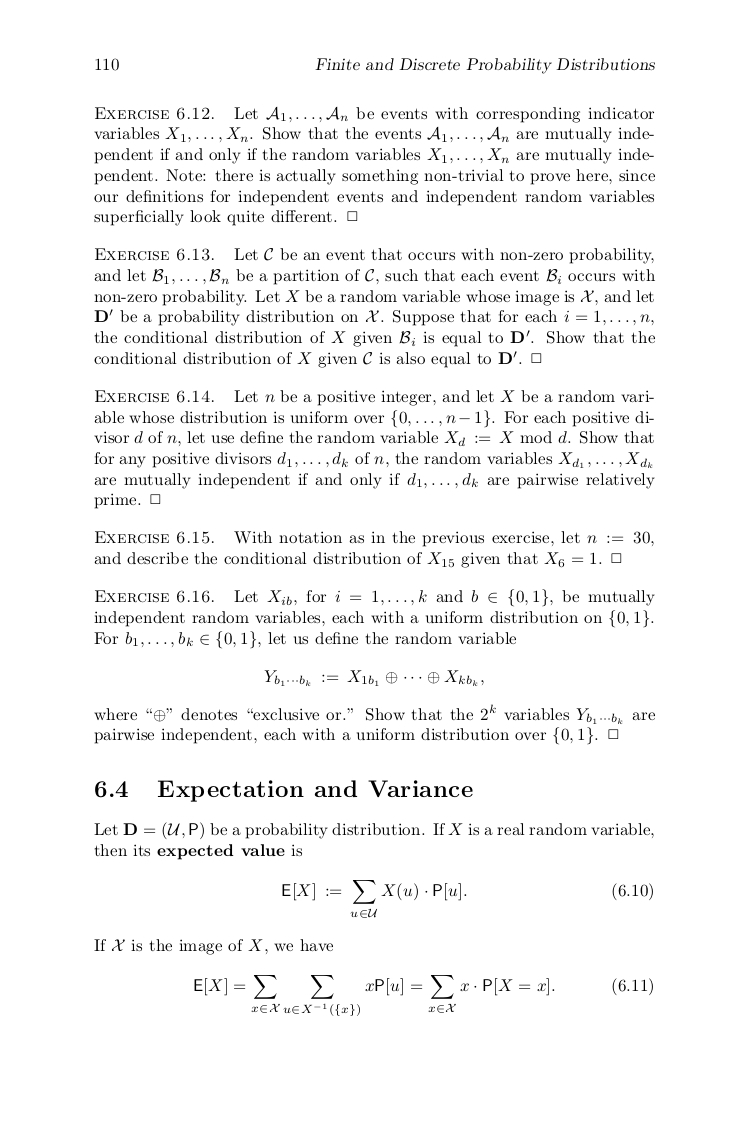formula: (194, 975, 652, 1015), (282, 880, 652, 917), (264, 669, 483, 686)
